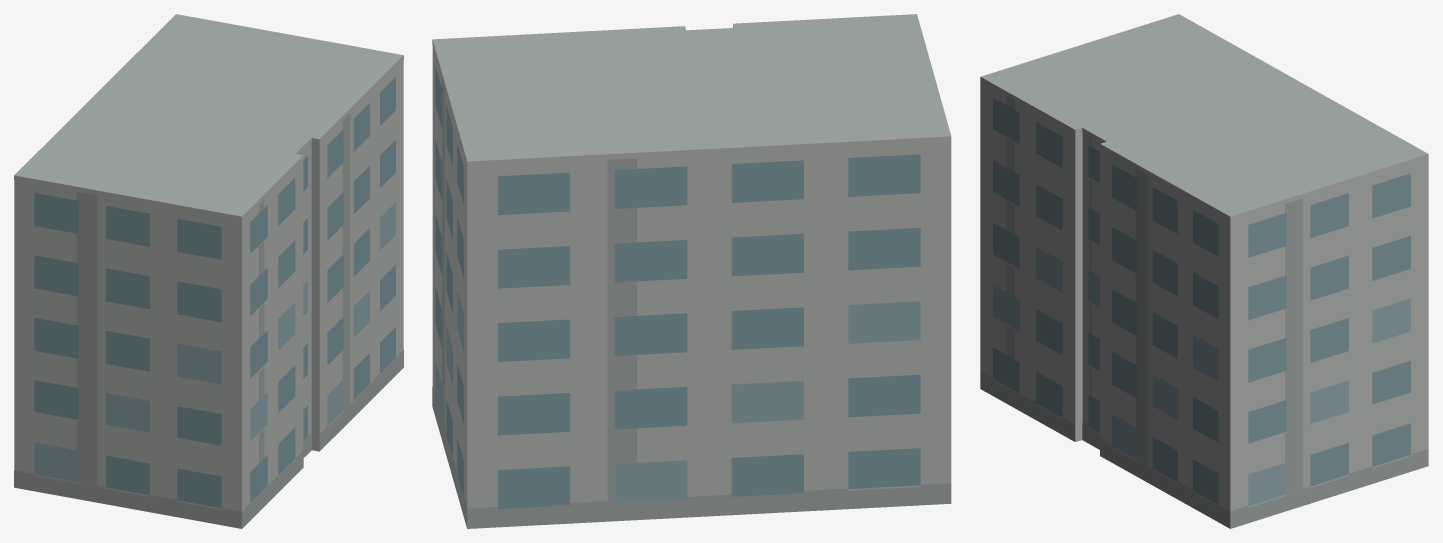
File: survey-upis-32624708.glb
The picture shows the model from 3 angles, left to right: view 1: azimuth 30°, elevation 25°; view 2: azimuth 150°, elevation 25°; view 3: azimuth 270°, elevation 25°; orthographic projection. The views are drawn at different scales.
Visible parts, largest first — view 1: survey-upis-32624708.tmp; view 2: survey-upis-32624708.tmp; view 3: survey-upis-32624708.tmp.
Part boxes in pixels (<box>): survey-upis-32624708.tmp: <box>14,14,403,528</box>; survey-upis-32624708.tmp: <box>432,14,951,528</box>; survey-upis-32624708.tmp: <box>980,14,1428,528</box>.
Size of the model in its own units: 22.98 by 16.5 by 21.47.
